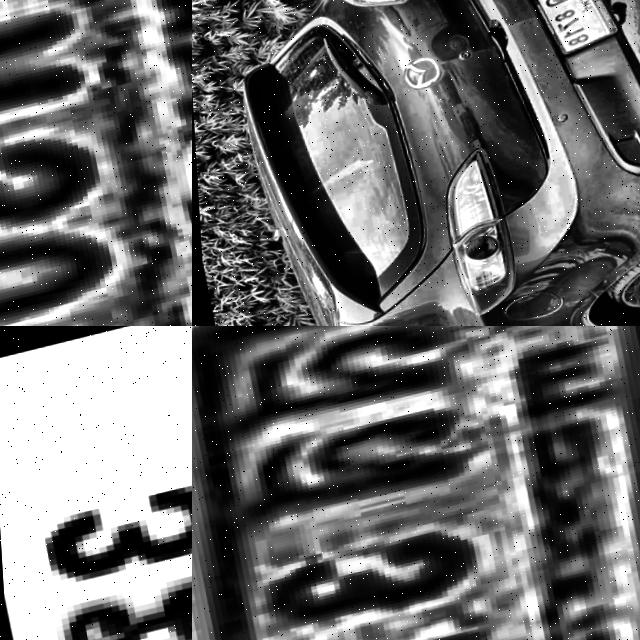license-plate: (192, 326, 640, 640), (0, 0, 192, 326), (0, 326, 192, 640), (519, 0, 624, 72)
